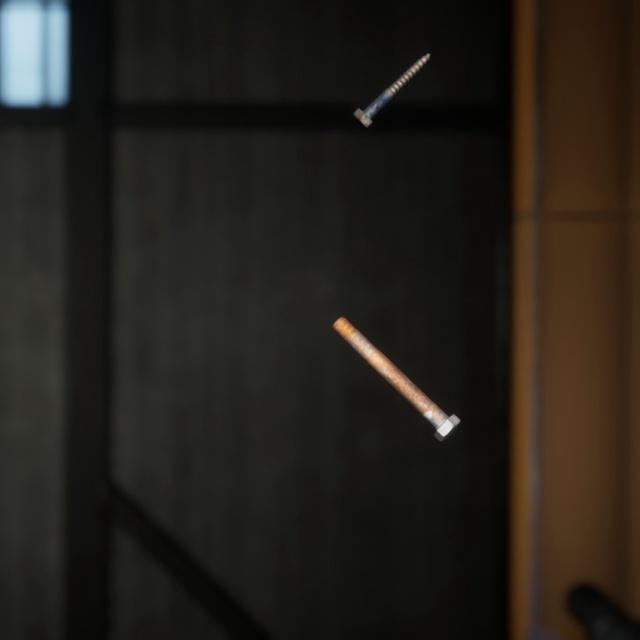bolt: (328, 294, 465, 427), (348, 38, 435, 123)
nut: (519, 617, 565, 640)
